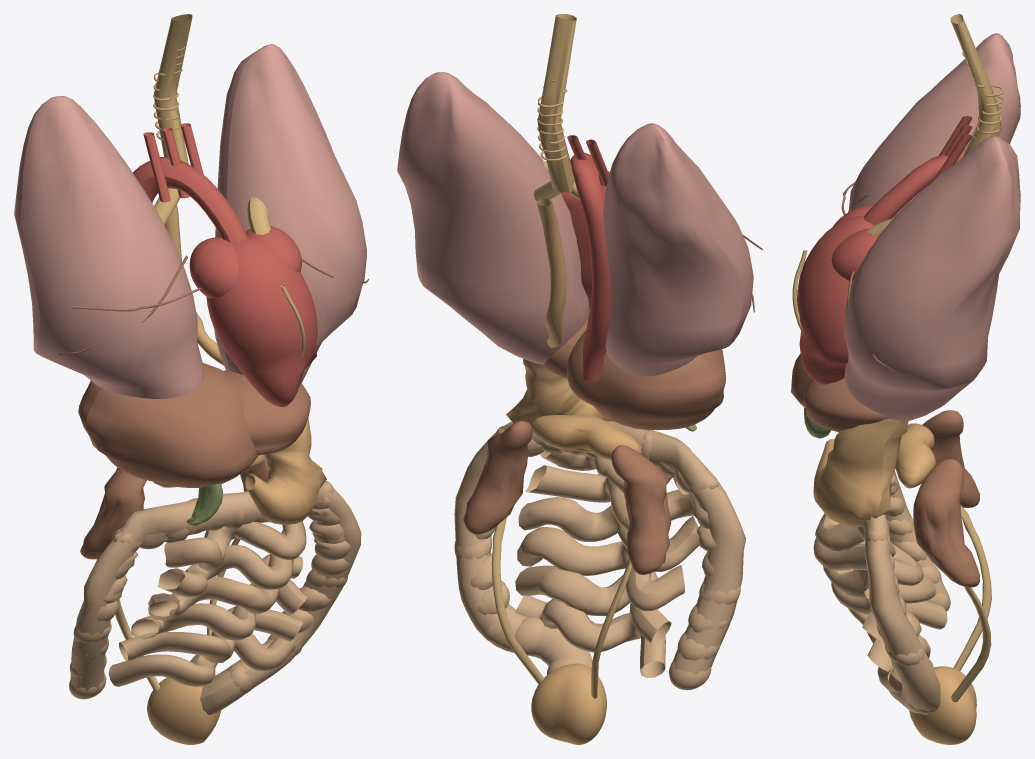
Rendered from viscera-female-v2-CYKGJMqU.glb.
3 renders of one model, left to right at view 1: azimuth 30°, elevation 25°; view 2: azimuth 150°, elevation 25°; view 3: azimuth 270°, elevation 25°, orthographic.
Parts seen in each view (by area): view 1: Visceral teaching layer; view 2: Visceral teaching layer; view 3: Visceral teaching layer.
Part boxes in pixels (bbox=[...]): Visceral teaching layer: bbox=[14, 14, 368, 744]; Visceral teaching layer: bbox=[397, 14, 762, 744]; Visceral teaching layer: bbox=[791, 14, 1020, 744].
Bounding box in the file's own units: 0.2756 × 0.5971 × 0.1722.
